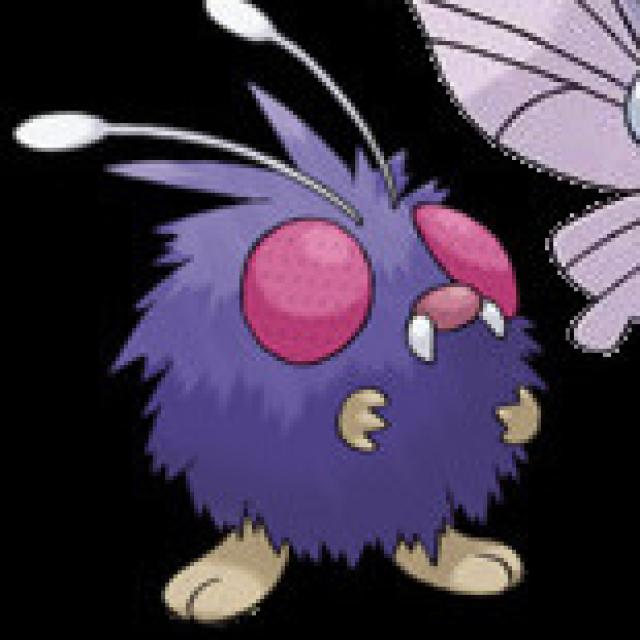Venonat: (130, 129, 548, 607)
